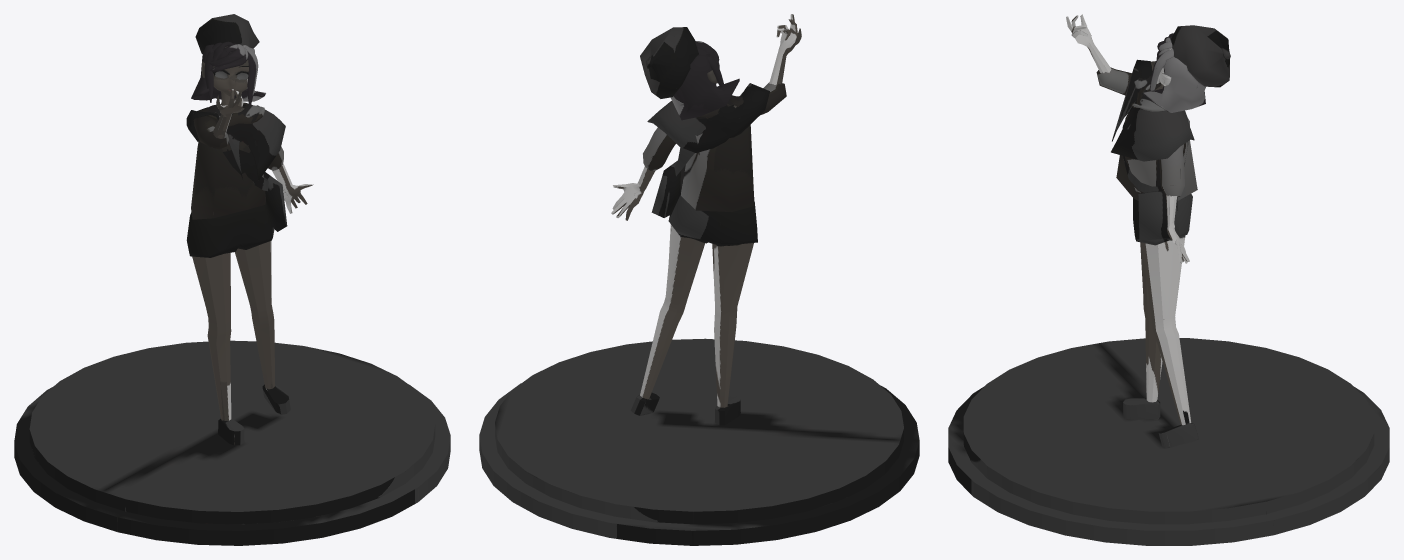
File: LindaReachBaked.glb
3 renders of one model, left to right at view 1: azimuth 30°, elevation 25°; view 2: azimuth 150°, elevation 25°; view 3: azimuth 270°, elevation 25°, orthographic.
Parts seen in each view (by area): view 1: Linda; view 2: Linda; view 3: Linda.
Boxes of the visible parts, x1,y1,x2,y2 form: Linda: (14, 14, 450, 545); Linda: (479, 14, 919, 545); Linda: (948, 14, 1389, 545).
Size of the model in its own units: 11.87 by 12.87 by 11.87.
1 material, 1 textured.
